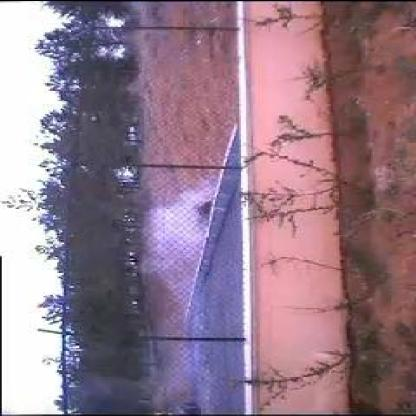-: (144, 166, 238, 380)
